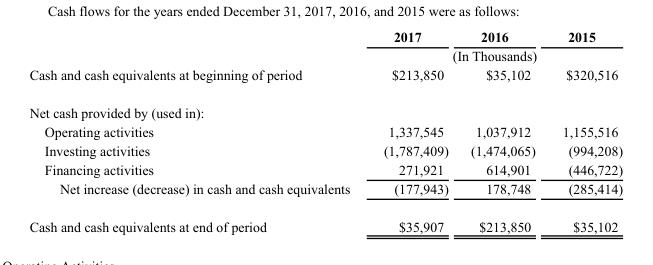table: (28, 28, 622, 233)
table column: (28, 28, 366, 233), (366, 28, 458, 233), (458, 28, 548, 233), (548, 28, 622, 233)
table column header: (28, 28, 622, 65)
table projected row header: (28, 93, 622, 121)
table row: (28, 178, 622, 207), (28, 65, 622, 93), (28, 93, 622, 121), (28, 207, 622, 233), (28, 46, 622, 65), (28, 121, 622, 140), (28, 140, 622, 159), (28, 159, 622, 178), (28, 28, 622, 46)
table spanning cell: (366, 46, 622, 65)
